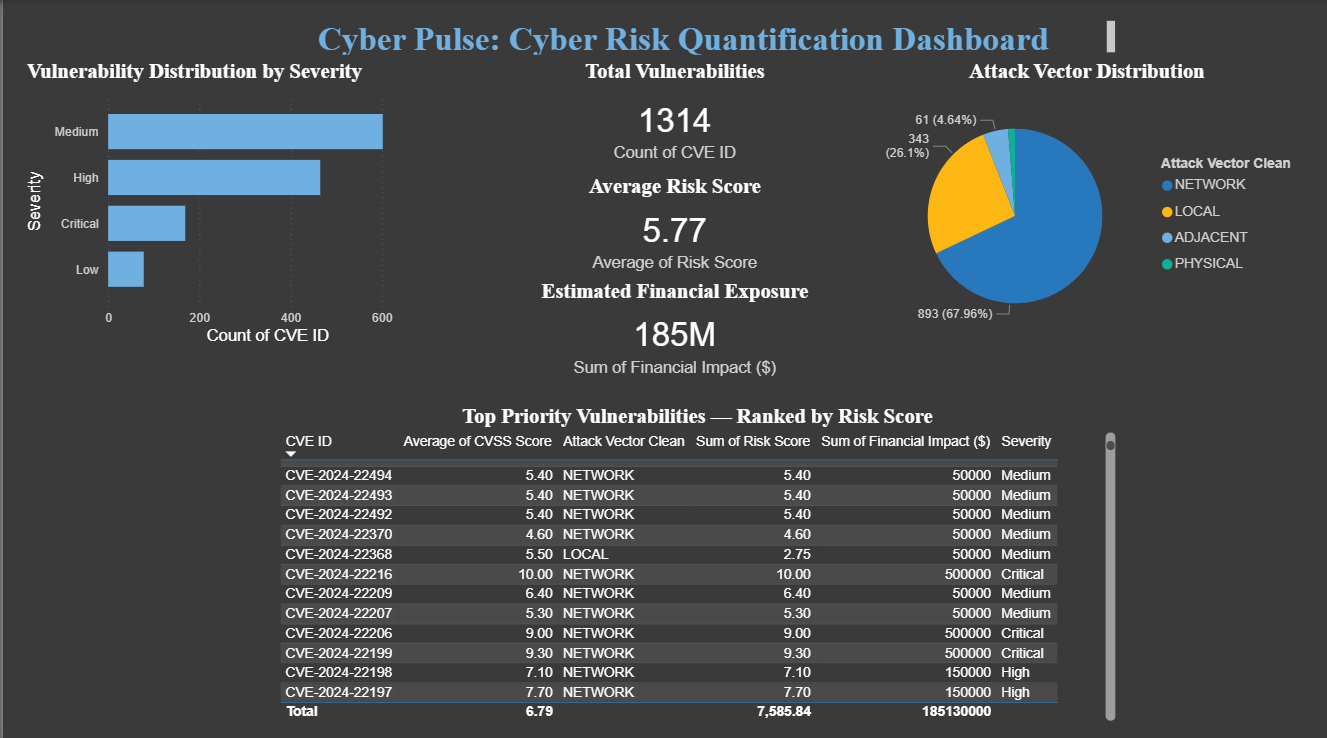

This screenshot's page, from the dashboard's own definition file:
{"tool":"powerbi","page":{"name":"Page 1","canvas":[1280,720],"ordinal":0},"visuals":[{"type":"card","title":"Total Vulnerabilities","fields":{"Values":["CountNonNull(cyber_risk_final.CVE ID)"]},"box":[526,57.9,244.9,111],"z":0},{"type":"card","title":"Estimated Financial Exposure","fields":{"Values":["Sum(cyber_risk_final.Financial Impact ($))"]},"box":[512.7,270.2,271.4,100.1],"z":1000},{"type":"card","title":"Average Risk Score","fields":{"Values":["Avg(cyber_risk_final.Risk Score)"]},"box":[526,168.9,244.9,101.3],"z":2000},{"type":"clusteredBarChart","title":"Vulnerability Distribution by Severity","fields":{"Category":["cyber_risk_final.Severity"],"Y":["CountNonNull(cyber_risk_final.CVE ID)"]},"box":[18.1,57.9,407.8,279.9],"z":3000},{"type":"pieChart","title":"Attack Vector Distribution","fields":{"Category":["cyber_risk_final.Attack Vector Clean"],"Y":["CountNonNull(cyber_risk_final.CVE ID)"]},"box":[831.2,57.9,429.5,279.9],"z":4000},{"type":"tableEx","title":"Top Priority Vulnerabilities — Ranked by Risk Score","fields":{"Values":["cyber_risk_final.CVE ID","Avg(cyber_risk_final.CVSS Score)","cyber_risk_final.Attack Vector Clean","Sum(cyber_risk_final.Risk Score)","Sum(cyber_risk_final.Financial Impact ($))","cyber_risk_final.Severity"]},"box":[261.8,390.9,816.8,310.1],"z":5000},{"type":"textbox","box":[243.7,14.5,834.9,43.4],"z":6000}]}

Visuals, with their boxes in screenshot pixels (x1, y1, x2, y2), scaled from the page's 1280x720 canvas onto the 1327x738 screenshot:
"Total Vulnerabilities" card: select_region(545, 59, 799, 173)
"Estimated Financial Exposure" card: select_region(532, 277, 813, 380)
"Average Risk Score" card: select_region(545, 173, 799, 277)
"Vulnerability Distribution by Severity" clusteredBarChart: select_region(19, 59, 442, 346)
"Attack Vector Distribution" pieChart: select_region(862, 59, 1307, 346)
"Top Priority Vulnerabilities — Ranked by Risk Score" tableEx: select_region(271, 401, 1118, 719)
textbox: select_region(253, 15, 1118, 59)
